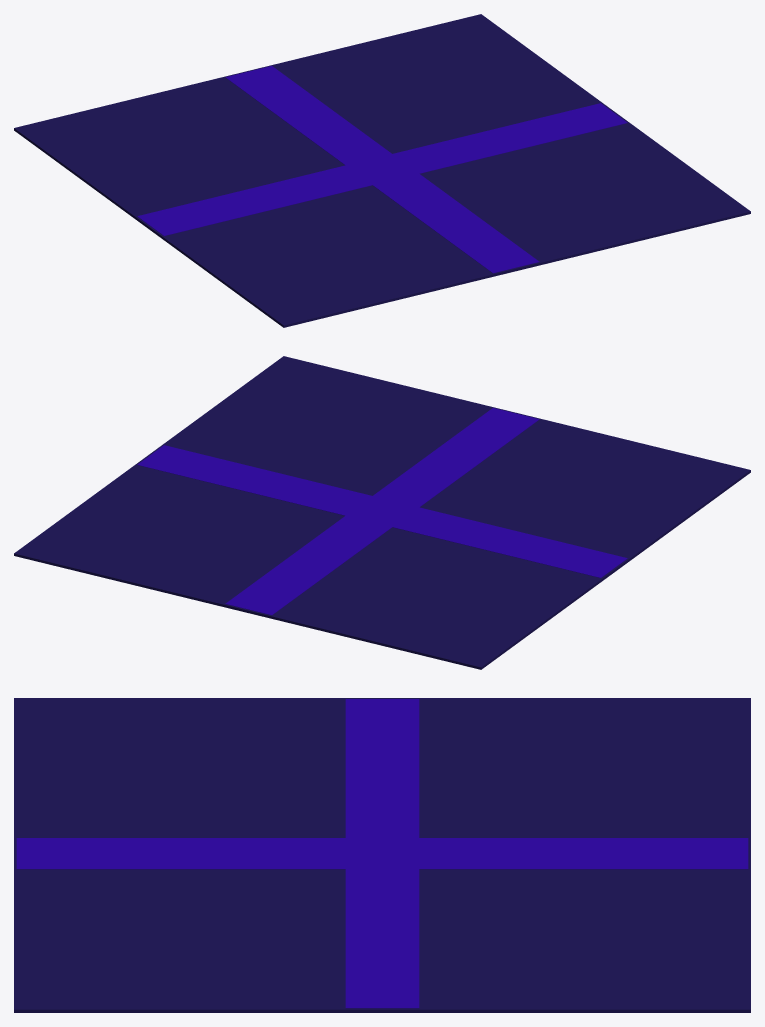
The model's file is ground8.gltf.
The picture shows the model from 3 angles, top to bottom: view 1: azimuth 30°, elevation 25°; view 2: azimuth 150°, elevation 25°; view 3: azimuth 270°, elevation 25°; orthographic projection. The views are drawn at different scales.
Visible parts, largest first — view 1: Cube, Cube.001, Cube.002; view 2: Cube, Cube.002, Cube.001; view 3: Cube, Cube.001, Cube.002.
Part boxes in pixels (<box>): Cube: <box>14,14,750,327</box>; Cube.001: <box>225,66,539,273</box>; Cube.002: <box>137,103,627,235</box>; Cube: <box>14,356,750,669</box>; Cube.002: <box>137,445,627,577</box>; Cube.001: <box>225,408,539,615</box>; Cube: <box>14,698,750,1012</box>; Cube.001: <box>16,838,748,869</box>; Cube.002: <box>345,699,419,1008</box>.
Bounding box in the file's own units: 20 × 0.12 × 20.
